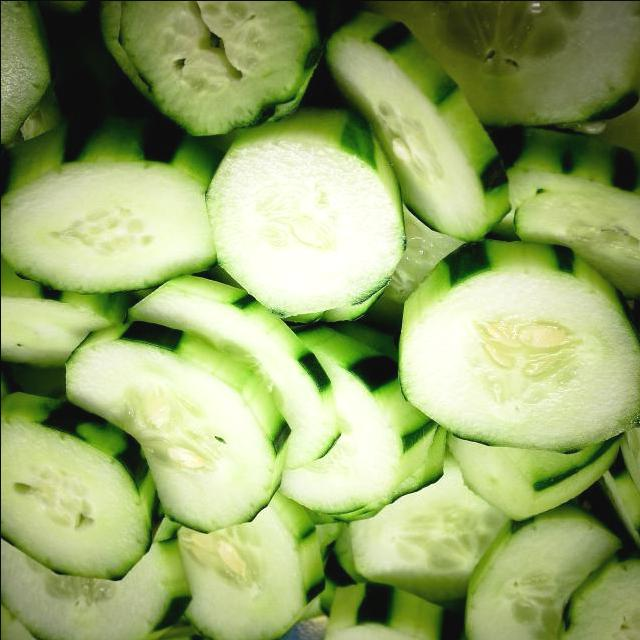cucumber: (400, 232, 640, 450)
